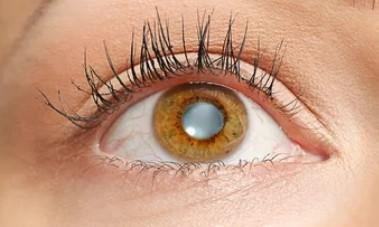eye: (148, 83, 250, 164)
